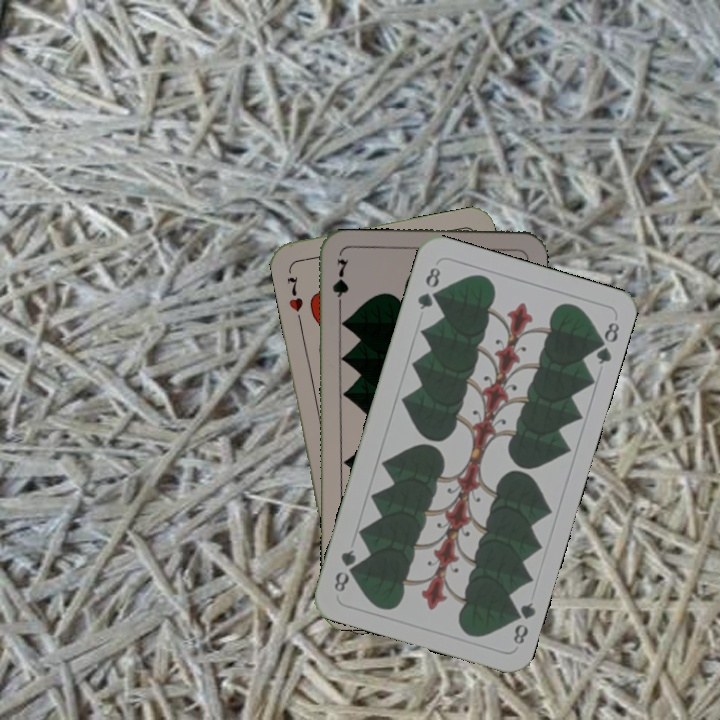G7: (328, 254, 351, 314)
G8: (506, 598, 538, 647), (413, 263, 443, 312)
H7: (282, 271, 306, 315)
